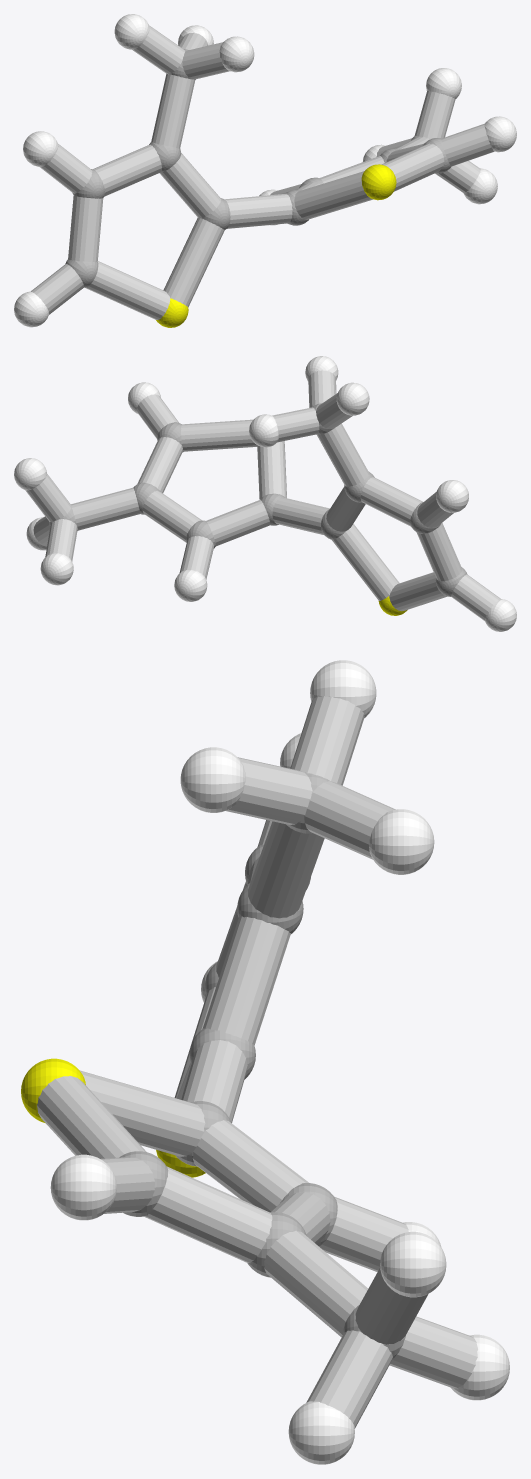
Rendered from Methylthiophene_Phi_15_Theta_80_Methylthiophene.glb.
3 renders of one model, top to bottom at view 1: azimuth 30°, elevation 25°; view 2: azimuth 150°, elevation 25°; view 3: azimuth 270°, elevation 25°, orthographic. The views are drawn at different scales.
Visible parts, largest first — view 1: grp7965, grp3621, grp1, grp7241; view 2: grp7965, grp3621, grp1; view 3: grp7965, grp3621, grp1, grp7241.
Boxes of the visible parts, box(x1,y1,x2,y2) form: grp7965: box(31, 25, 494, 319); grp3621: box(14, 14, 516, 327); grp1: box(65, 49, 450, 287); grp7241: box(156, 164, 396, 327); grp7965: box(25, 370, 500, 620); grp3621: box(14, 356, 516, 631); grp1: box(49, 403, 467, 596); grp7965: box(37, 696, 477, 1428); grp3621: box(50, 660, 509, 1464); grp1: box(119, 772, 405, 1358); grp7241: box(21, 1058, 205, 1177).
Size of the model in its own units: 9.68 by 5.14 by 4.42.
